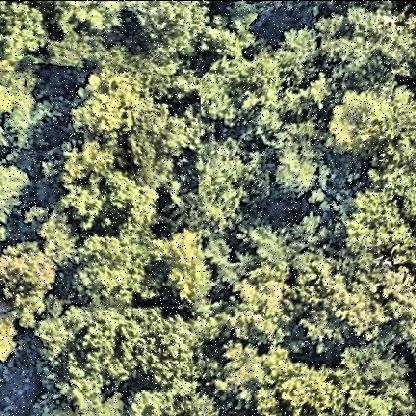tree-top: (35, 304, 225, 416), (65, 71, 187, 226), (277, 245, 416, 355), (252, 342, 416, 416), (201, 43, 329, 135), (328, 77, 416, 185), (212, 260, 307, 348), (317, 1, 416, 84), (76, 220, 164, 309), (189, 136, 266, 228), (262, 117, 332, 205), (332, 187, 416, 259), (44, 2, 130, 72), (126, 2, 208, 64), (161, 222, 216, 312), (208, 339, 278, 406), (1, 239, 54, 326), (1, 65, 52, 155), (197, 1, 267, 61), (235, 220, 303, 281), (1, 2, 50, 70), (30, 215, 79, 267), (1, 154, 31, 228)
